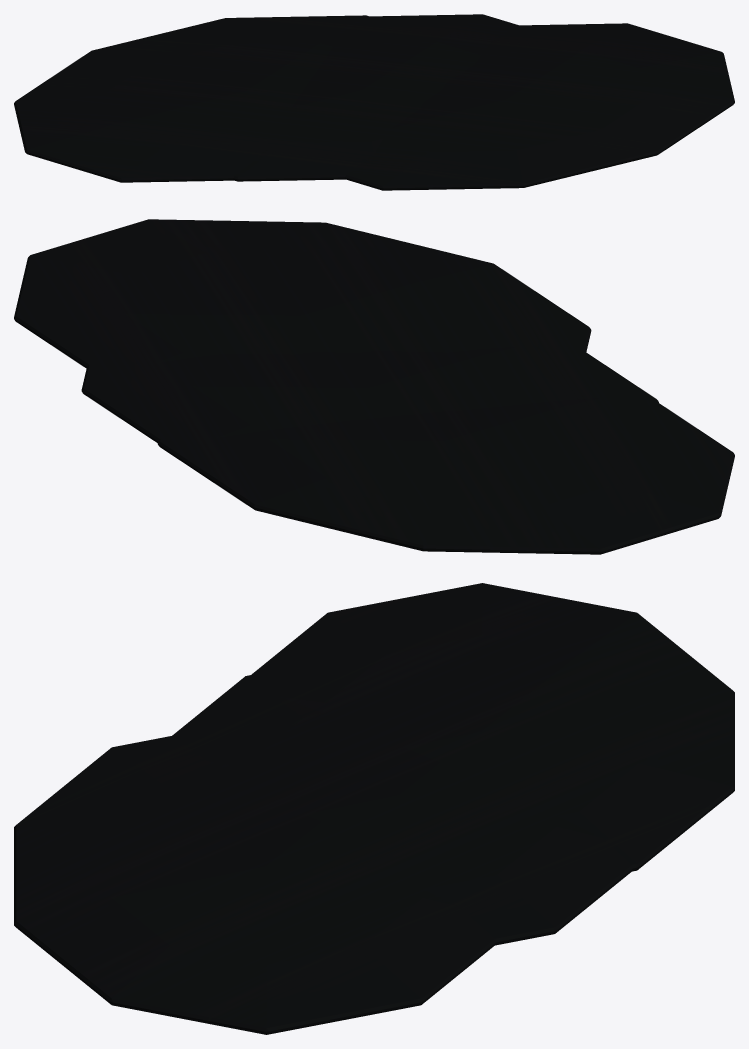
Rendered from PROP-8D841B97F4C1_lod1.glb.
3 views of the same model, one above another, from view 1: azimuth 30°, elevation 25°; view 2: azimuth 150°, elevation 25°; view 3: azimuth 270°, elevation 25° (orthographic). The views are drawn at different scales.
Parts seen in each view (by area): view 1: surface_hazard.003; view 2: surface_hazard.003; view 3: surface_hazard.003.
Part boxes in pixels (left/top/right/bottom): surface_hazard.003: left=14, top=14, right=734, bottom=190; surface_hazard.003: left=14, top=219, right=734, bottom=554; surface_hazard.003: left=14, top=583, right=734, bottom=1034.
Bounding box in the file's own units: 1.63 × 0.036 × 1.11.
Materials: 1 (1 with a texture image).
